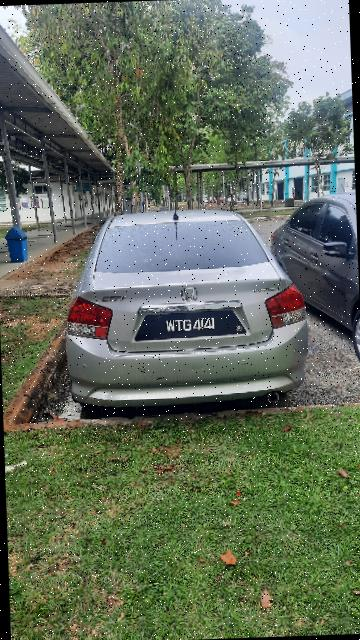License_Plate: (136, 305, 253, 349)
car: (60, 202, 316, 419)
